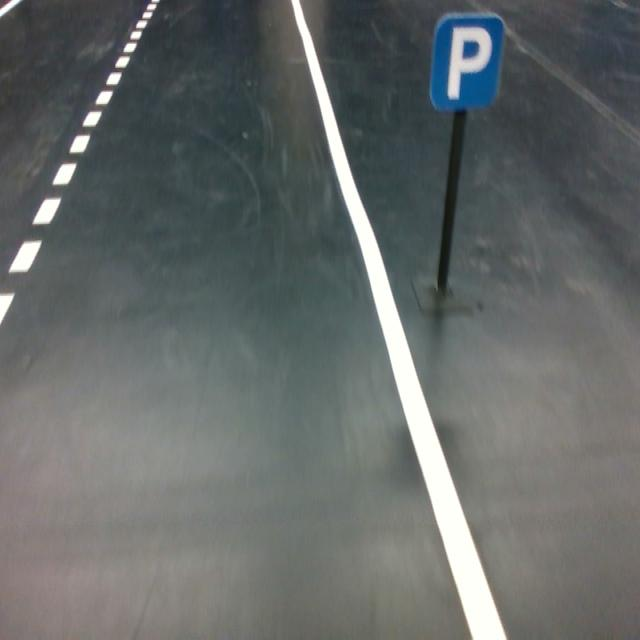parking-sign: (428, 11, 506, 112)
